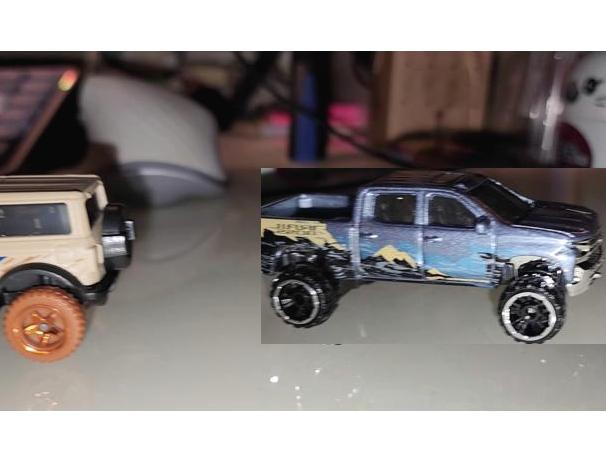toy-car: (261, 168, 606, 344), (0, 173, 137, 363)
